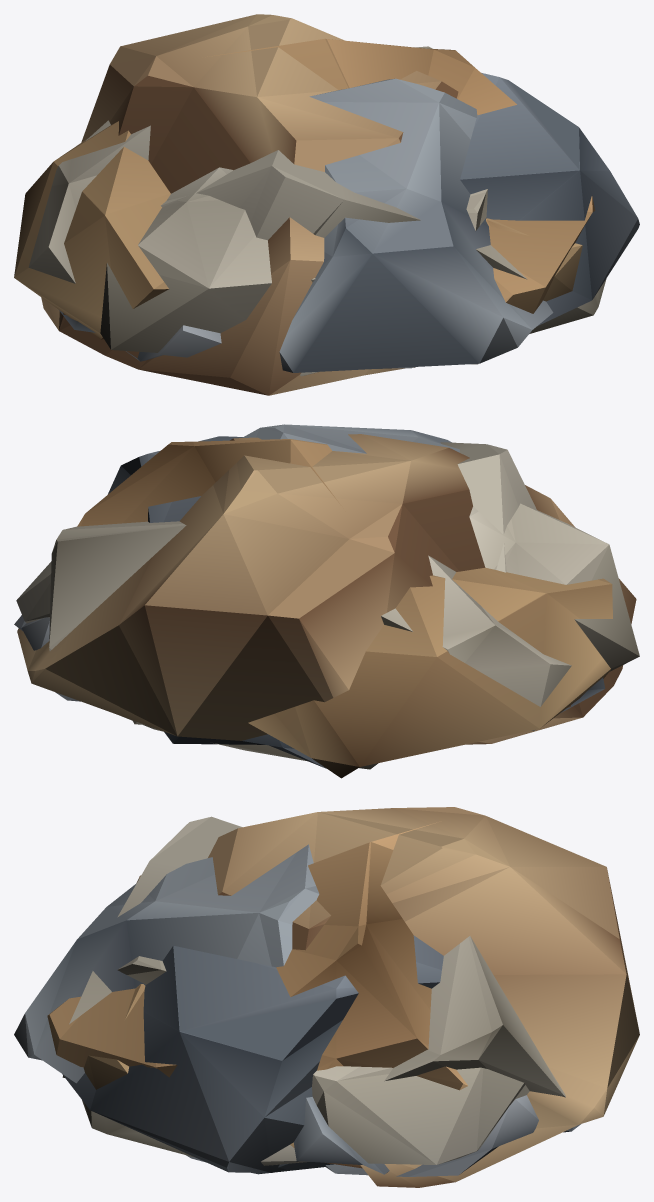
The model's file is coast_rocks.glb.
The picture shows the model from 3 angles, top to bottom: view 1: azimuth 30°, elevation 25°; view 2: azimuth 150°, elevation 25°; view 3: azimuth 270°, elevation 25°; orthographic projection. The views are drawn at different scales.
Visible parts, largest first — view 1: boulder_2, rock_2, rock_4, rock_3, boulder_0, boulder_1, rock_5, rock_1, rock_0; view 2: boulder_2, boulder_0, rock_5, rock_3, boulder_1, rock_1, rock_4, rock_2, rock_0; view 3: boulder_2, rock_4, boulder_1, rock_2, rock_3, rock_5, rock_0, rock_1, boulder_0.
Part boxes in pixels (x1,y1,x2,y2): boulder_2: (41,14,458,395); rock_2: (279,78,553,372); rock_4: (59,72,639,332); rock_3: (100,167,487,364); boulder_0: (14,121,582,339); boulder_1: (205,38,595,313); rock_5: (161,46,527,279); rock_1: (28,120,606,376); rock_0: (126,325,413,368); boulder_2: (17,434,636,744); boulder_0: (248,567,612,778); rock_5: (49,442,536,769); rock_3: (16,503,639,671); boulder_1: (77,439,341,526); rock_1: (132,555,571,724); rock_4: (108,436,605,768); rock_2: (242,424,534,730); rock_0: (14,615,80,701); boulder_2: (136,807,639,1187); rock_4: (62,935,443,1172); boulder_1: (47,822,467,1090); rock_2: (14,844,389,1174); rock_3: (117,956,529,1164); rock_5: (62,816,565,1097); rock_0: (325,1095,580,1176); rock_1: (82,1100,309,1165); boulder_0: (83,984,362,1168).
Bounding box in the file's own units: 2.03 × 0.7965 × 2.01.
